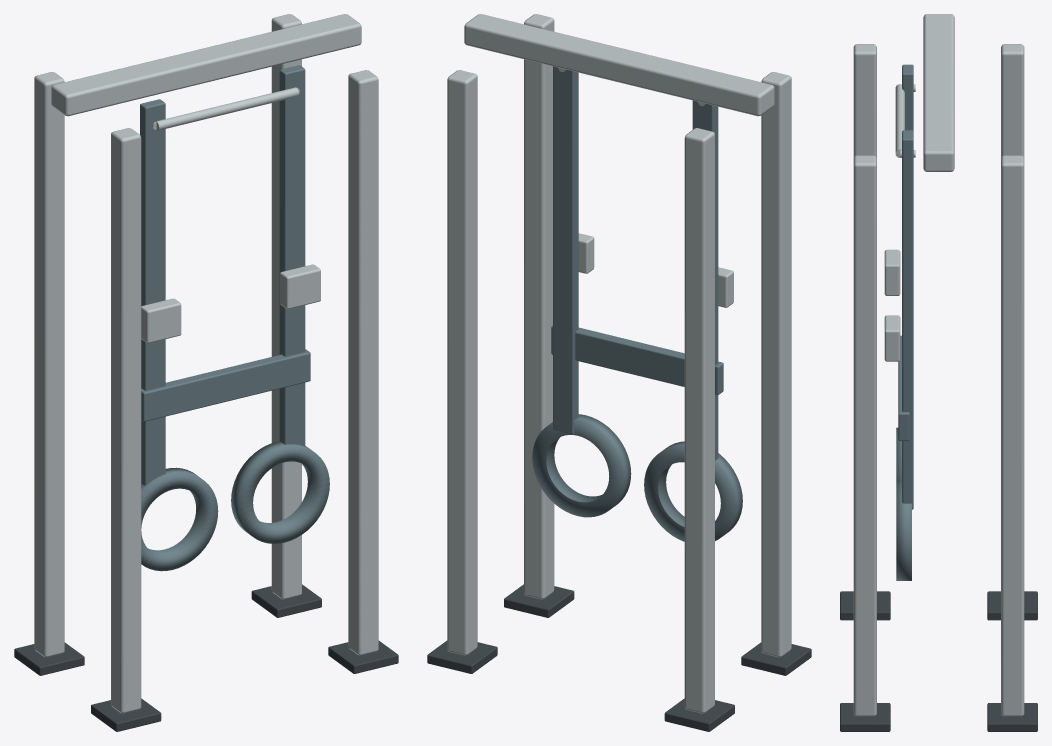
3 views of the same model, side by side, from view 1: azimuth 30°, elevation 25°; view 2: azimuth 150°, elevation 25°; view 3: azimuth 270°, elevation 25° (orthographic). The views are drawn at different scales.
Parts seen in each view (by area): view 1: broadcast-tower-and-relay-station-technician-harness-rack; view 2: broadcast-tower-and-relay-station-technician-harness-rack; view 3: broadcast-tower-and-relay-station-technician-harness-rack.
Boxes of the visible parts, x1=… form: broadcast-tower-and-relay-station-technician-harness-rack: x1=14, y1=14, x2=398, y2=731; broadcast-tower-and-relay-station-technician-harness-rack: x1=427, y1=14, x2=811, y2=731; broadcast-tower-and-relay-station-technician-harness-rack: x1=840, y1=14, x2=1037, y2=731.
Bounding box in the file's own units: 0.85 × 1.66 × 0.51.
